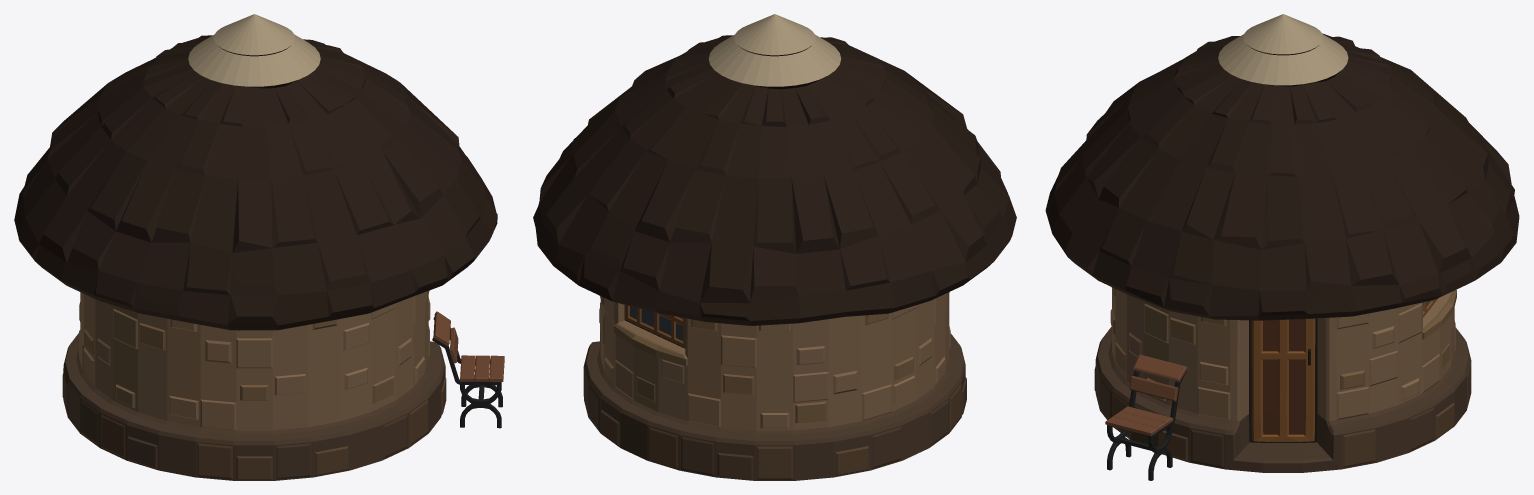
Rendered from hut_darker (1).fbx.
3 renders of one model, left to right at view 1: azimuth 30°, elevation 25°; view 2: azimuth 150°, elevation 25°; view 3: azimuth 270°, elevation 25°, orthographic.
Parts seen in each view (by area): view 1: hut.002, chair.001; view 2: hut.002; view 3: hut.002, chair.001.
Part boxes in pixels (x1,y1,x2,y2): hut.002: [14, 14, 497, 480]; chair.001: [432, 311, 504, 428]; hut.002: [533, 14, 1016, 480]; hut.002: [1045, 14, 1519, 472]; chair.001: [1105, 354, 1187, 480].
Size of the model in its own units: 834 by 739 by 835.
